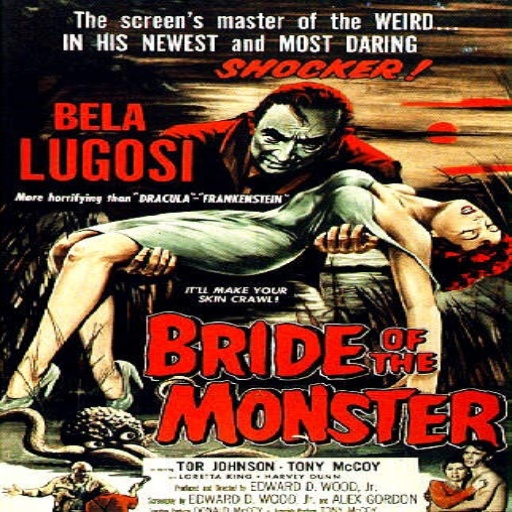hand: (314, 221, 381, 257), (112, 243, 174, 277), (0, 481, 23, 495), (465, 477, 486, 489), (424, 487, 430, 501)
